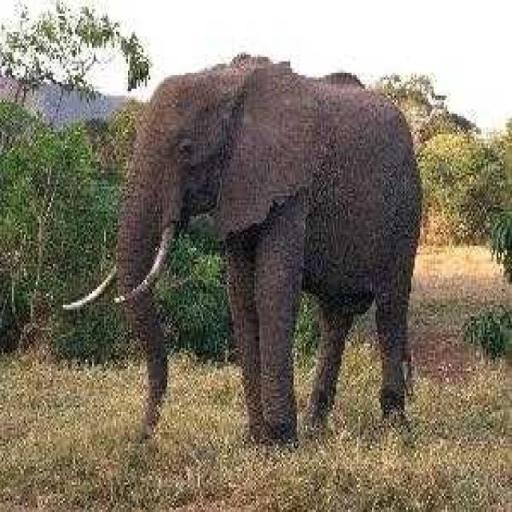Elephant: (61, 50, 424, 448)
